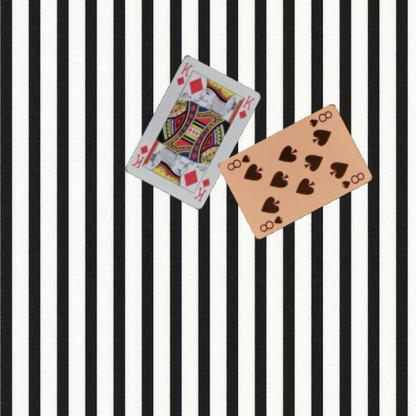8s: (257, 212, 284, 233), (307, 108, 333, 128)
Kd: (190, 175, 212, 203), (174, 59, 194, 87)
